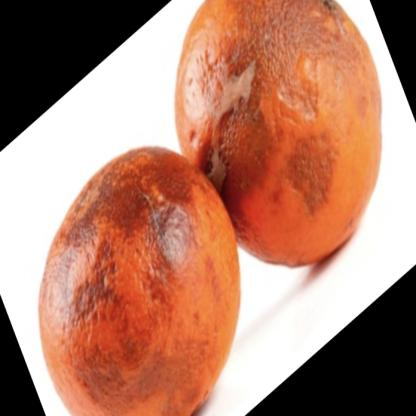rotten: (40, 1, 384, 416)
